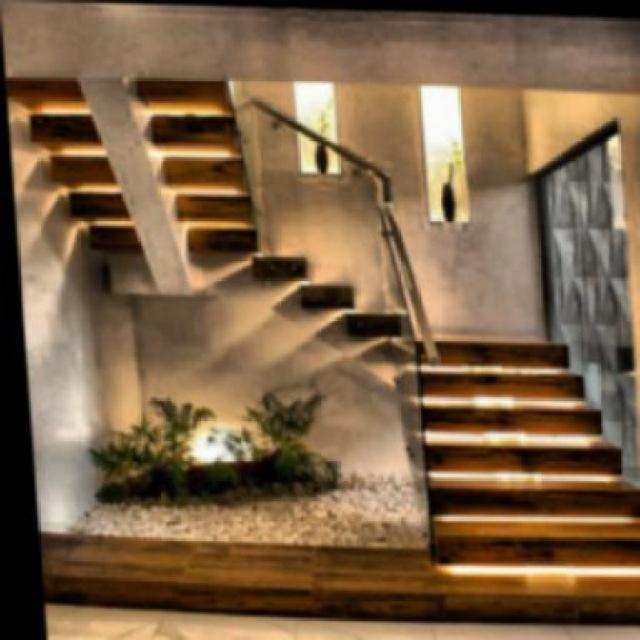stair: (383, 245, 639, 568)
